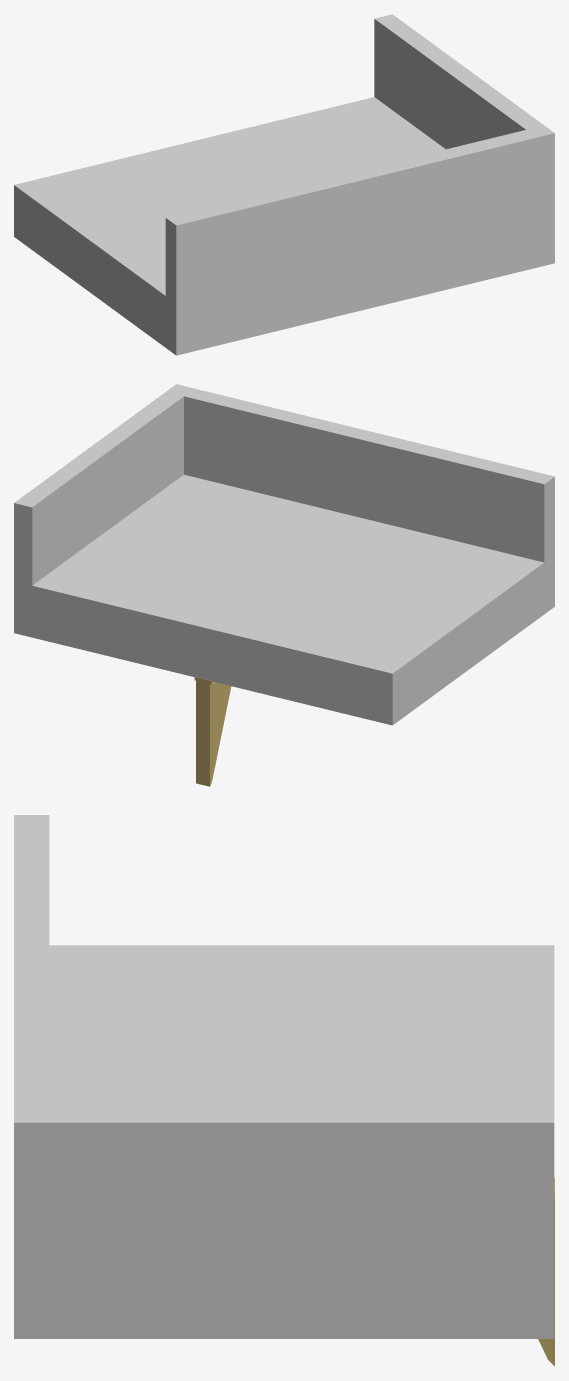
The model's file is stage.fbx.
3 renders of one model, top to bottom at view 1: azimuth 30°, elevation 25°; view 2: azimuth 150°, elevation 25°; view 3: azimuth 270°, elevation 25°, orthographic. The views are drawn at different scales.
Parts seen in each view (by area): view 1: stage; view 2: stage, support; view 3: stage.
Boxes of the visible parts, box(x1,y1,x2,y2) form: stage: box(14, 14, 554, 355); stage: box(14, 384, 554, 725); support: box(194, 677, 231, 786); stage: box(14, 815, 554, 1338).
Size of the model in its own units: 200 by 119 by 149.
